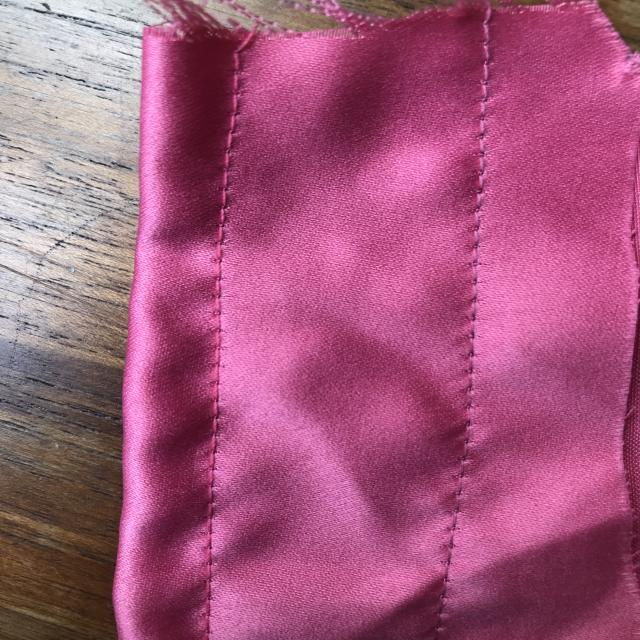good: (214, 98, 245, 194)
